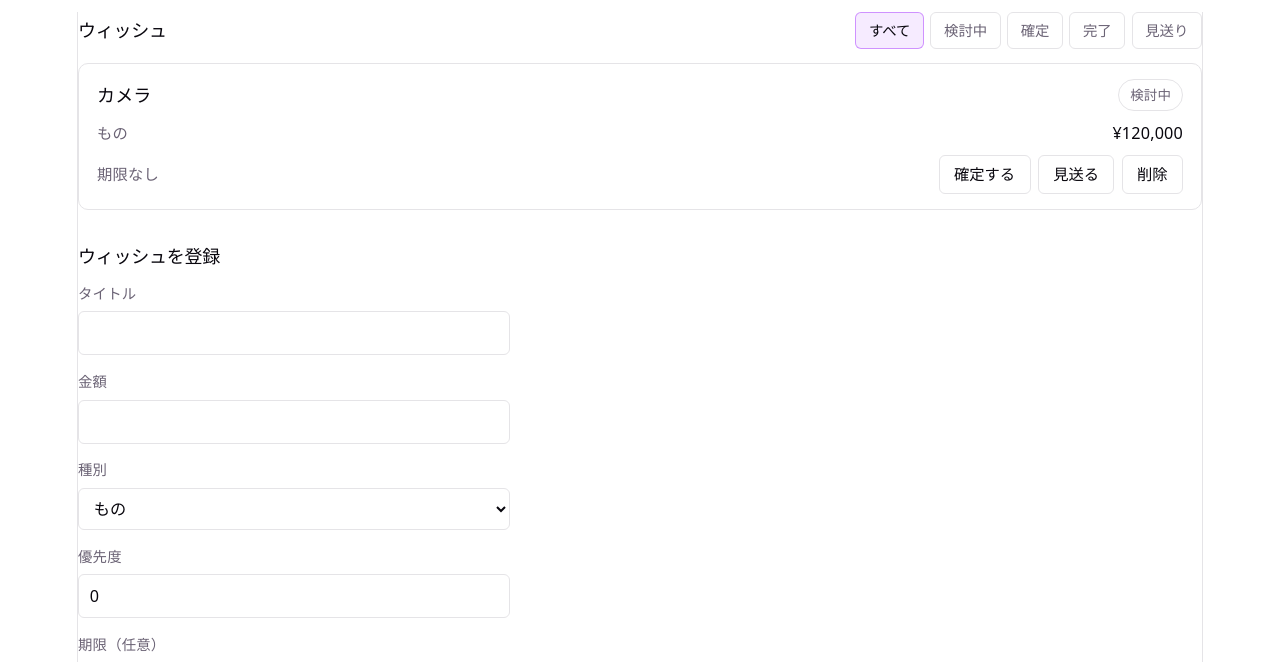
Scenario: エラーの表示 › 不正な遷移のメッセージをそのまま出す
What coordinates should you click on to do the following:
click the button "確定する"
I would click on:
 (985, 174)
Its box is [939,155,1031,194].
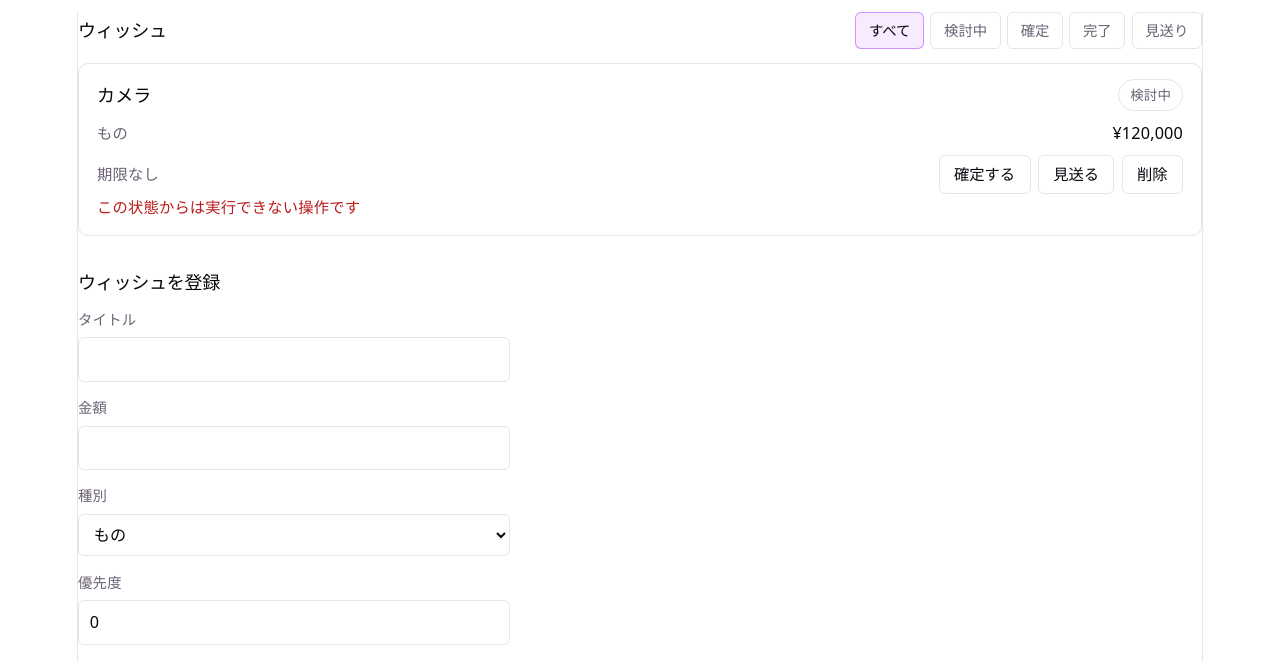
Expected: the text "この状態からは実行できない操作です" is shown, [97,196,360,216]
